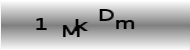1: (34, 17, 47, 31)
D: (99, 9, 115, 22)
M: (62, 24, 81, 38)
k: (75, 18, 88, 31)
m: (115, 19, 135, 31)
